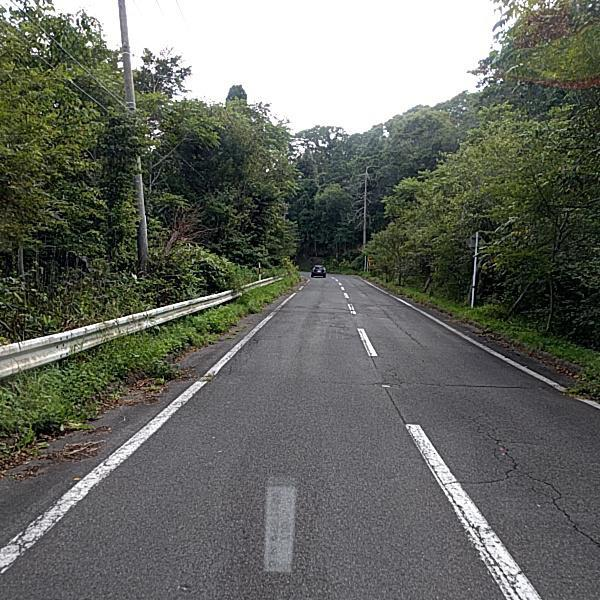D00: (375, 308, 422, 348)
D10: (320, 370, 555, 392)
D20: (449, 405, 598, 549)
D44: (0, 351, 230, 585), (410, 430, 540, 595)
